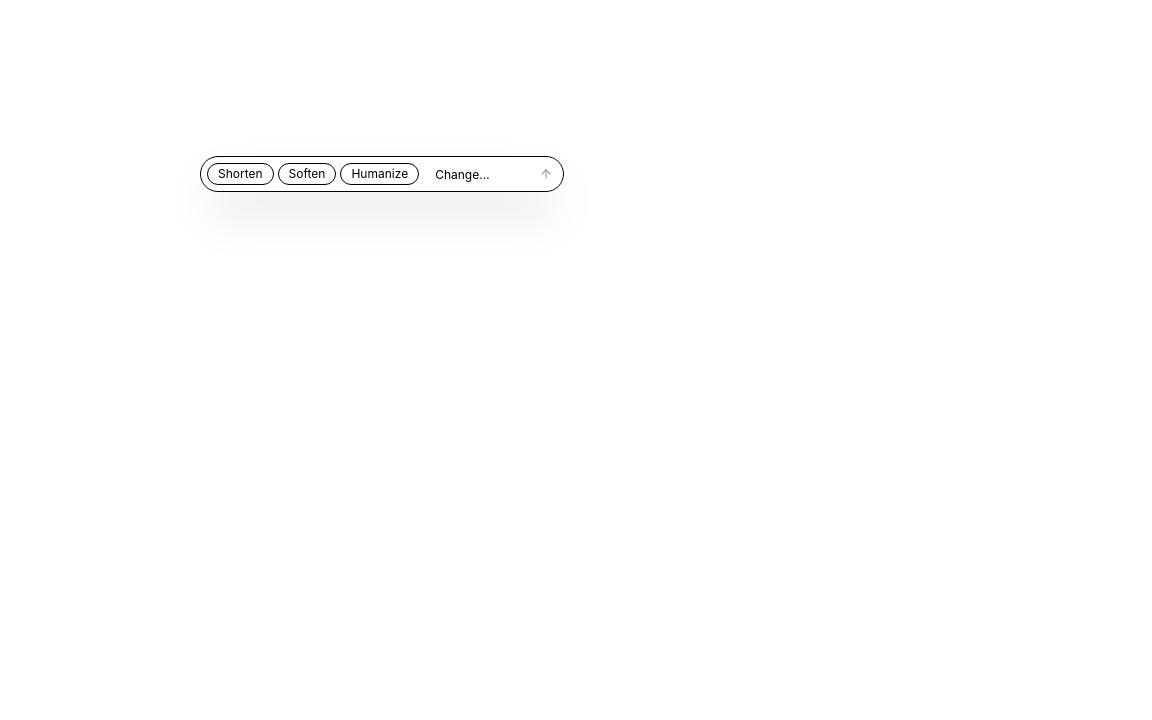
Test: shows a copyable fallback when the saved draft range changed
The width and height of the screenshot is (1152, 720).
Click the button "Shorten". click: (240,174)
box: [207, 163, 274, 185]
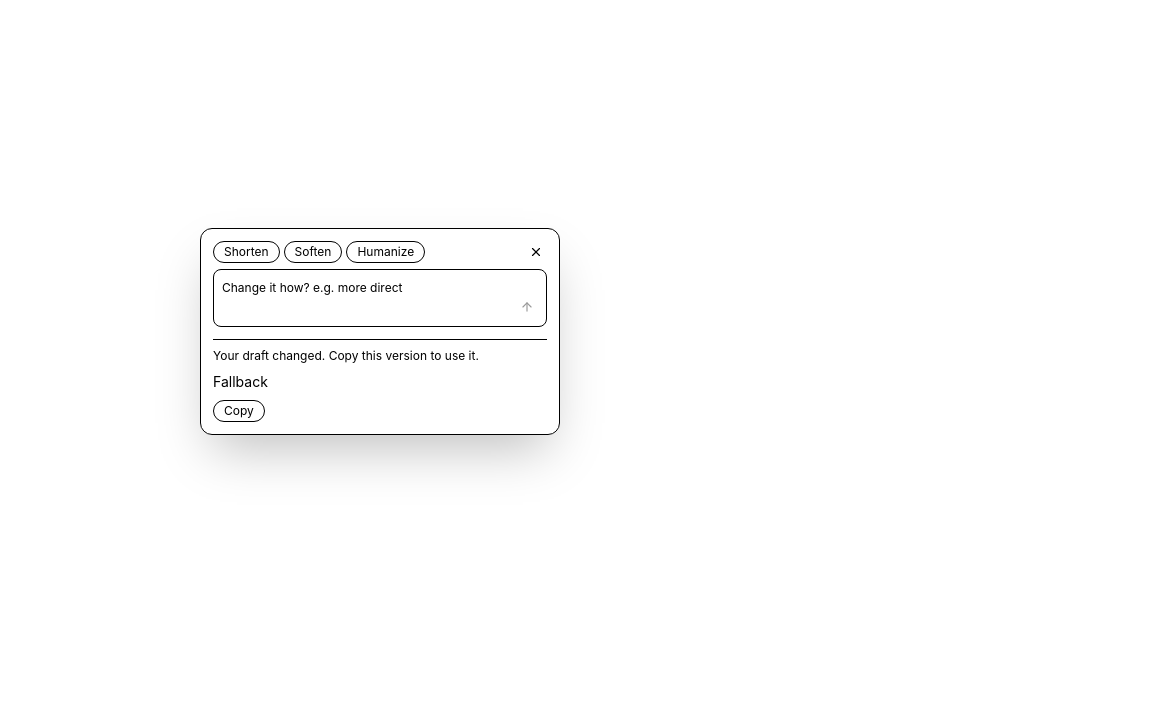
Expected: the text "Your draft changed. Copy this version to use it." is shown, [213, 348, 479, 363]
Expected: the button "Copy" is shown, [213, 400, 265, 422]
